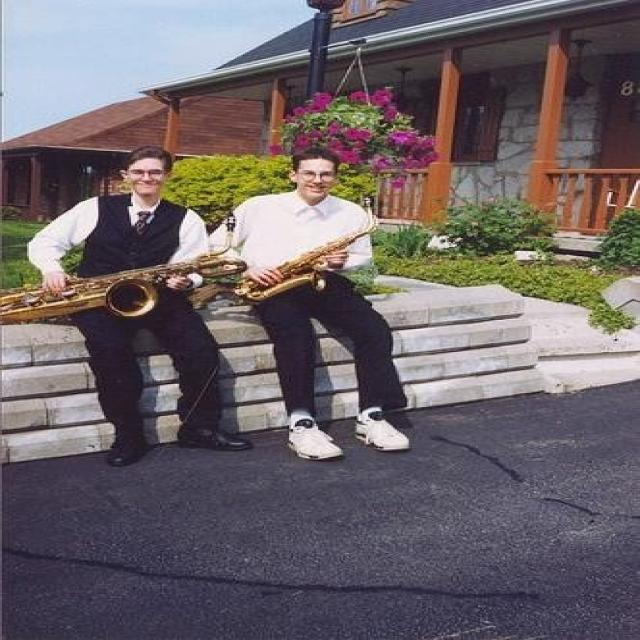saxophone: (0, 251, 251, 333), (232, 187, 386, 303)
